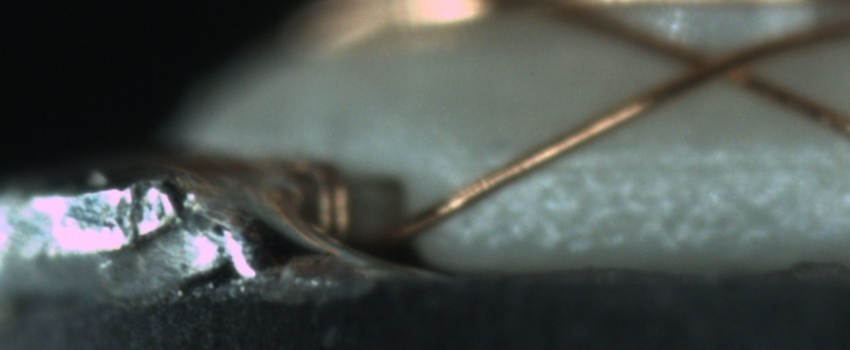CL: (669, 37, 758, 90)
DL: (535, 134, 849, 198)
TE: (273, 152, 358, 243)
